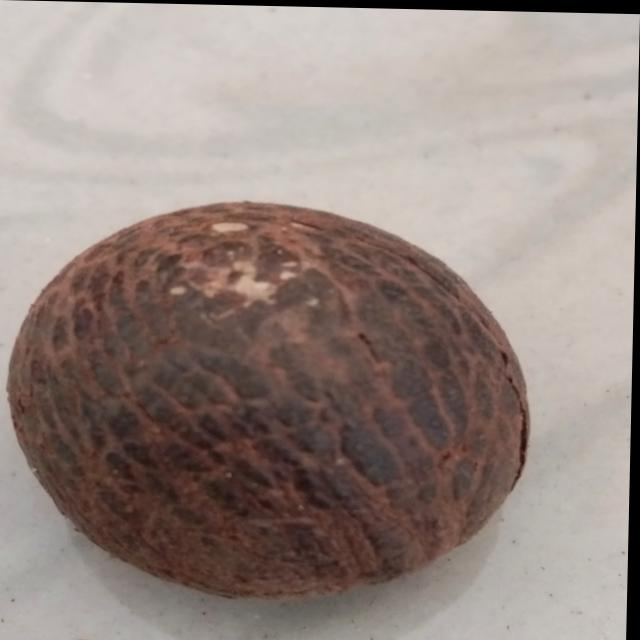karigot: (0, 176, 575, 604)
